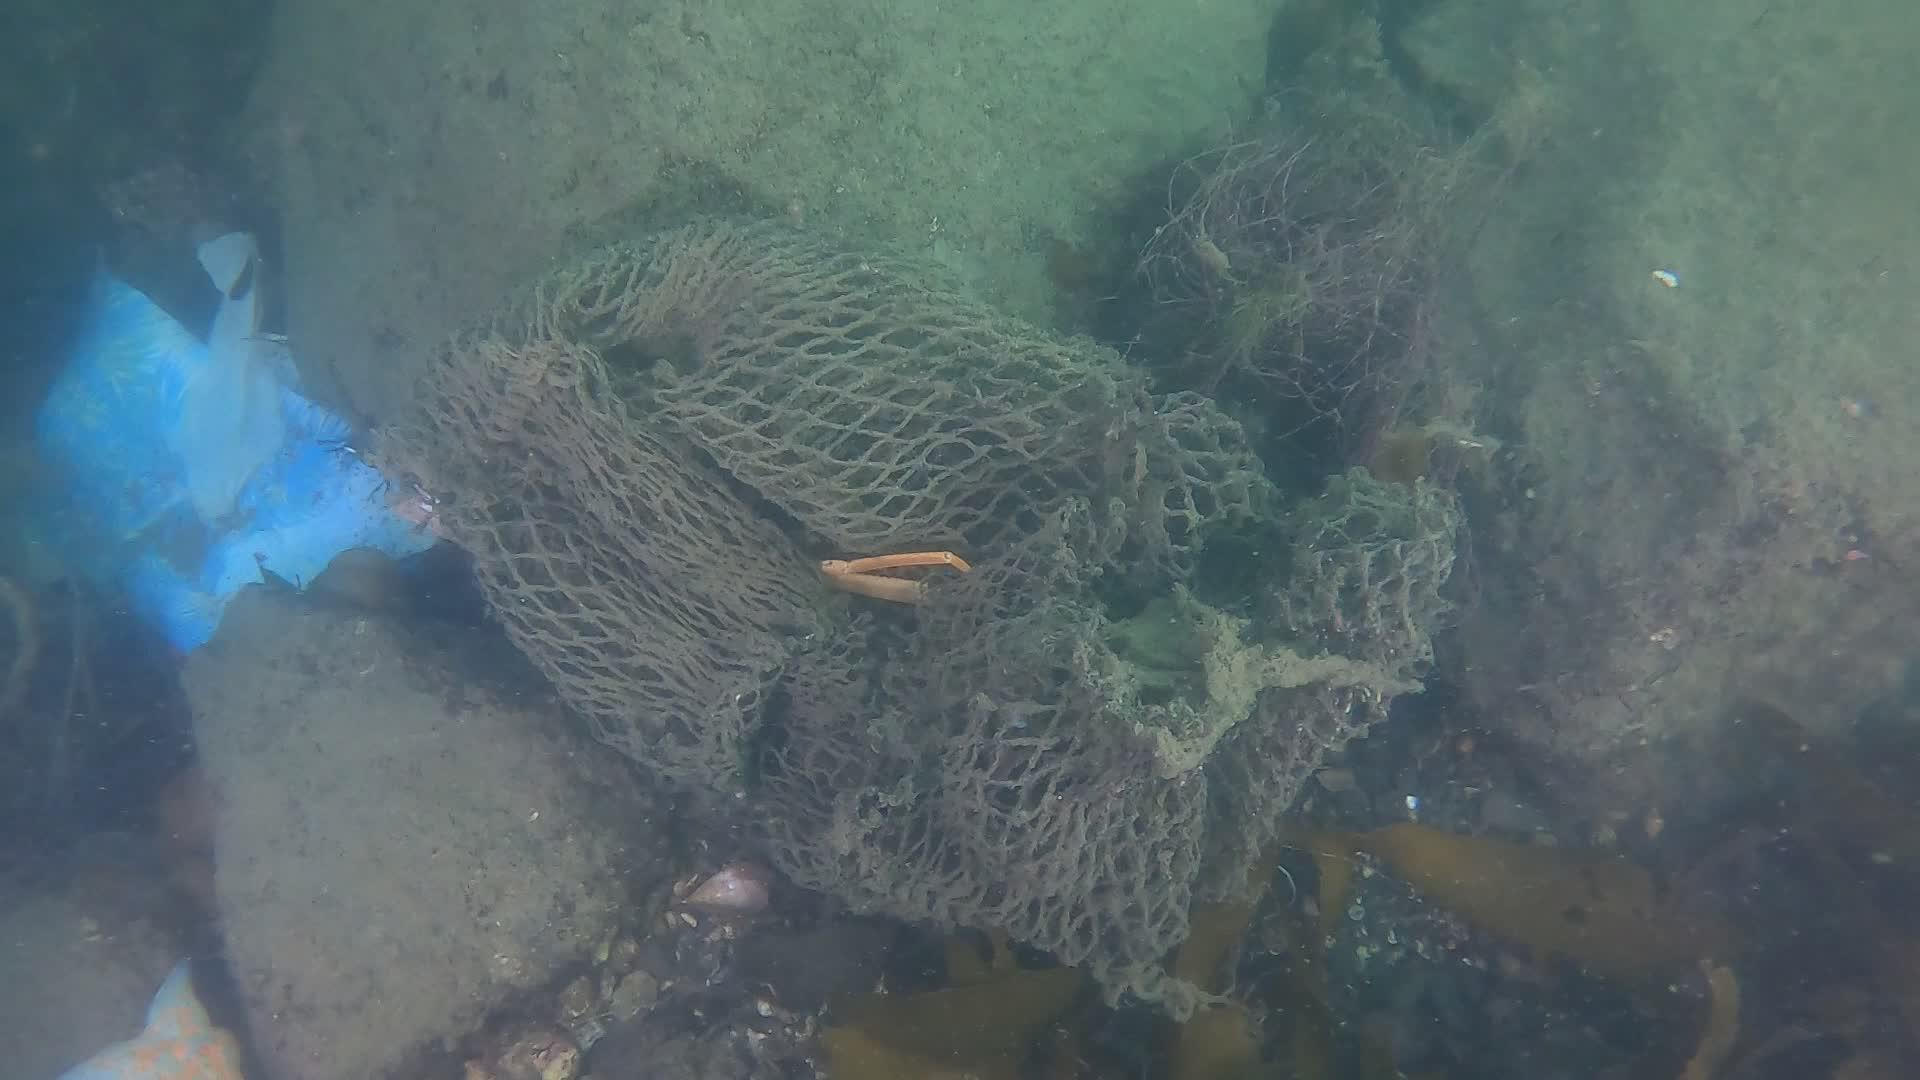fish net: (425, 220, 1464, 964)
